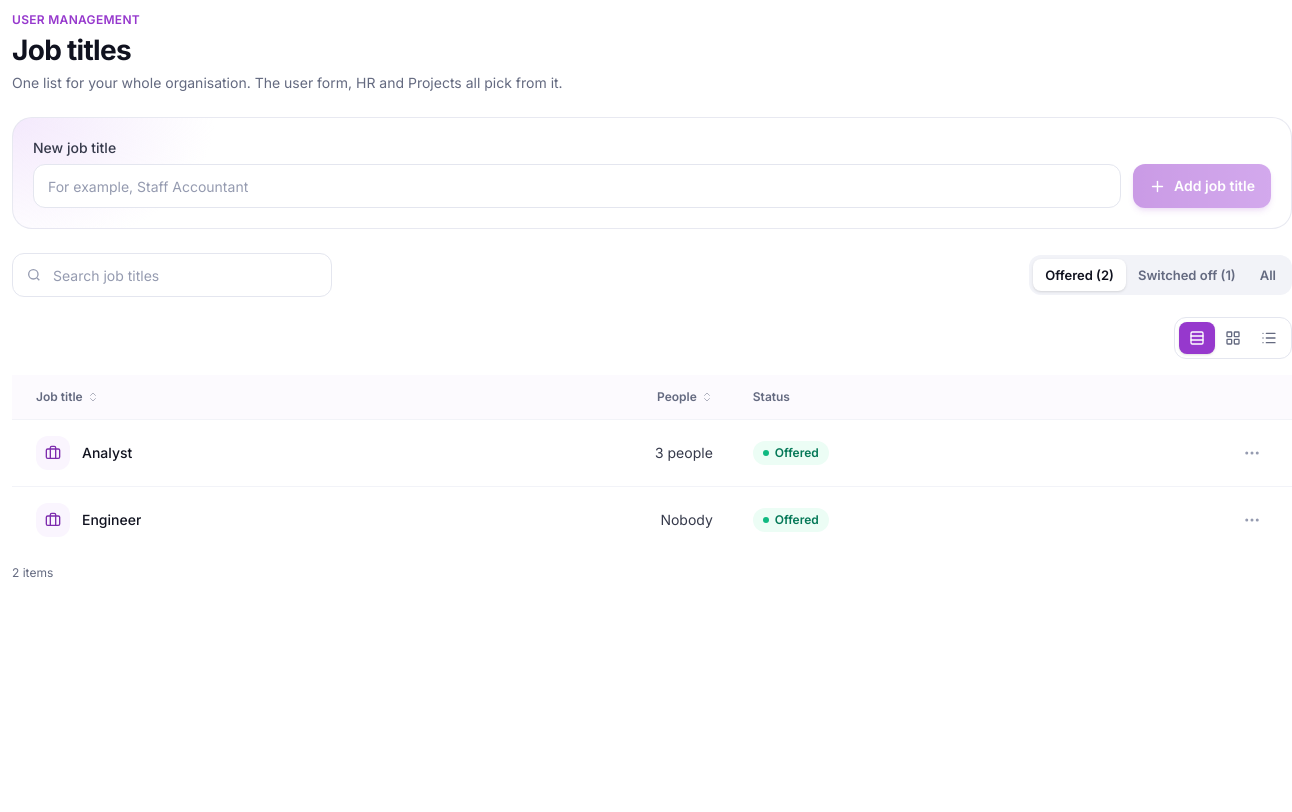
Test case: JobTitlesBoard › adds a title
The width and height of the screenshot is (1292, 812).
Check: the table is shown, box [12, 375, 1291, 553]
Type "Staff Accountant" into the field labelled "New job title" at [577, 186], box [33, 164, 1121, 208]
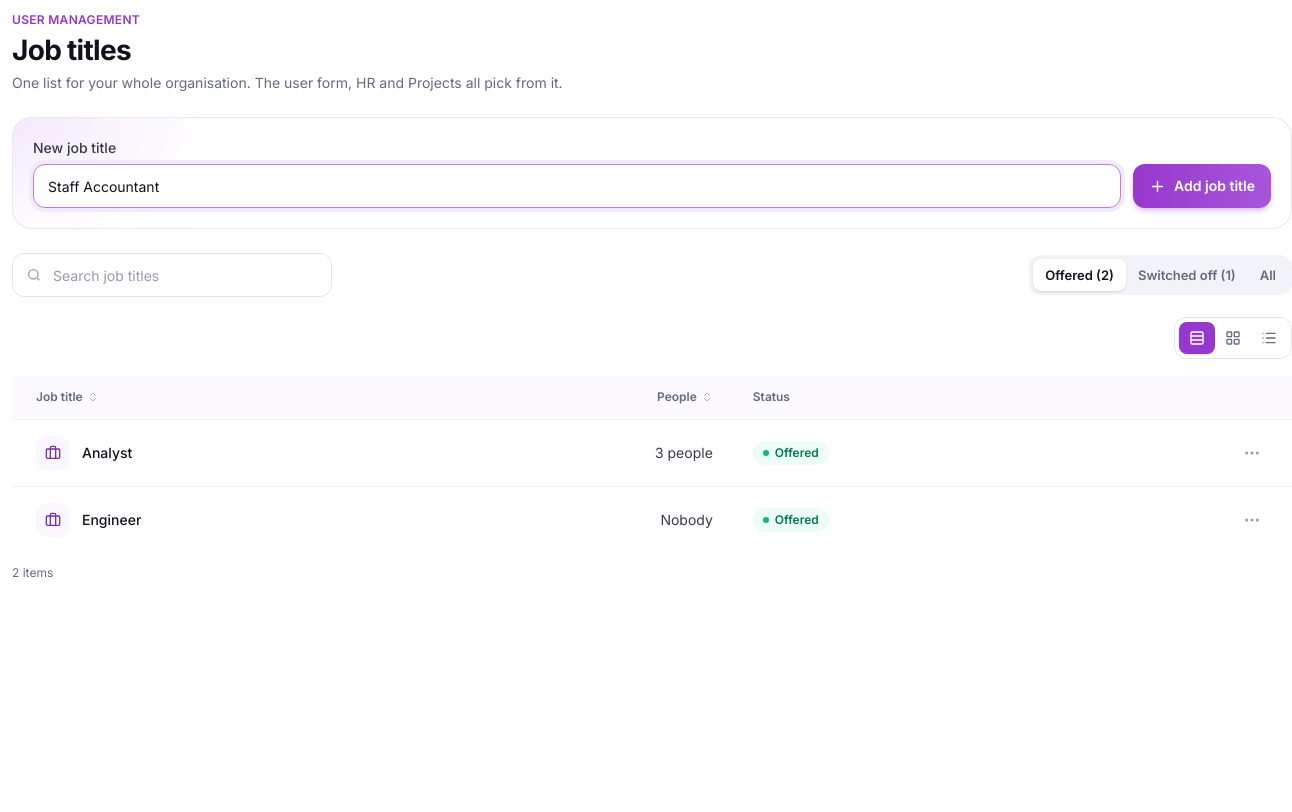
Click the button "Add job title" at [1202, 186], box [1133, 164, 1271, 208]
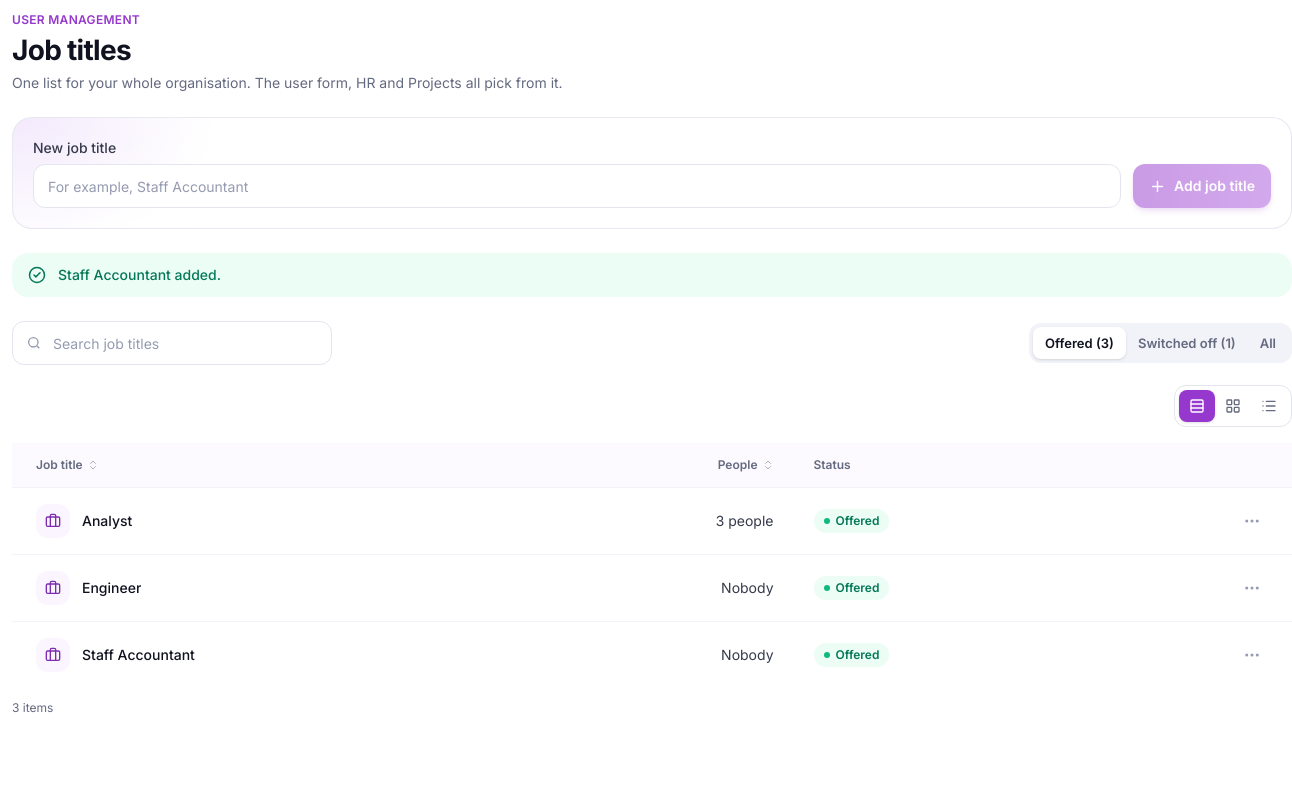
Check: the text "Staff Accountant" is shown, box [82, 645, 195, 665]
Check: the field labelled "New job title" is empty, box [33, 164, 1121, 208]
